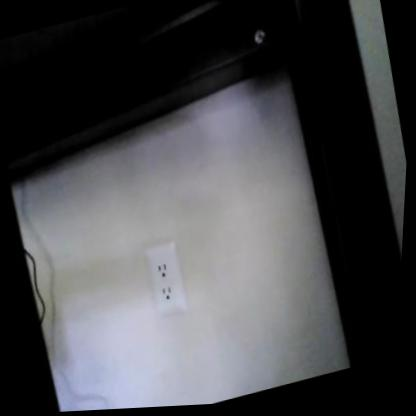OUTLET: (139, 237, 191, 323)
